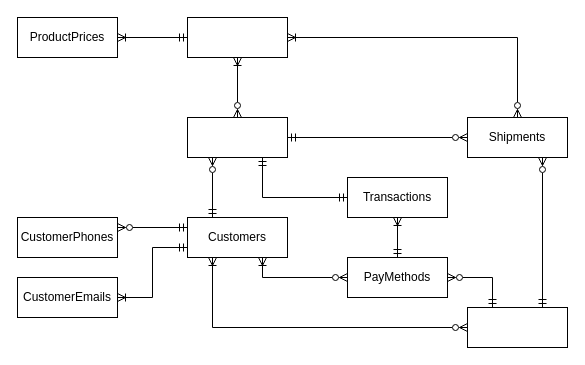
Image size: 585x365. Some labels were removed from this diagram. The shapes that lost their labels are listed below. From the top down, each one's box as (x1, y1, x2, y2) in pixels, then its label:
(186, 16, 288, 58): Products
(186, 116, 288, 158): Orders
(466, 306, 568, 348): Addresses
